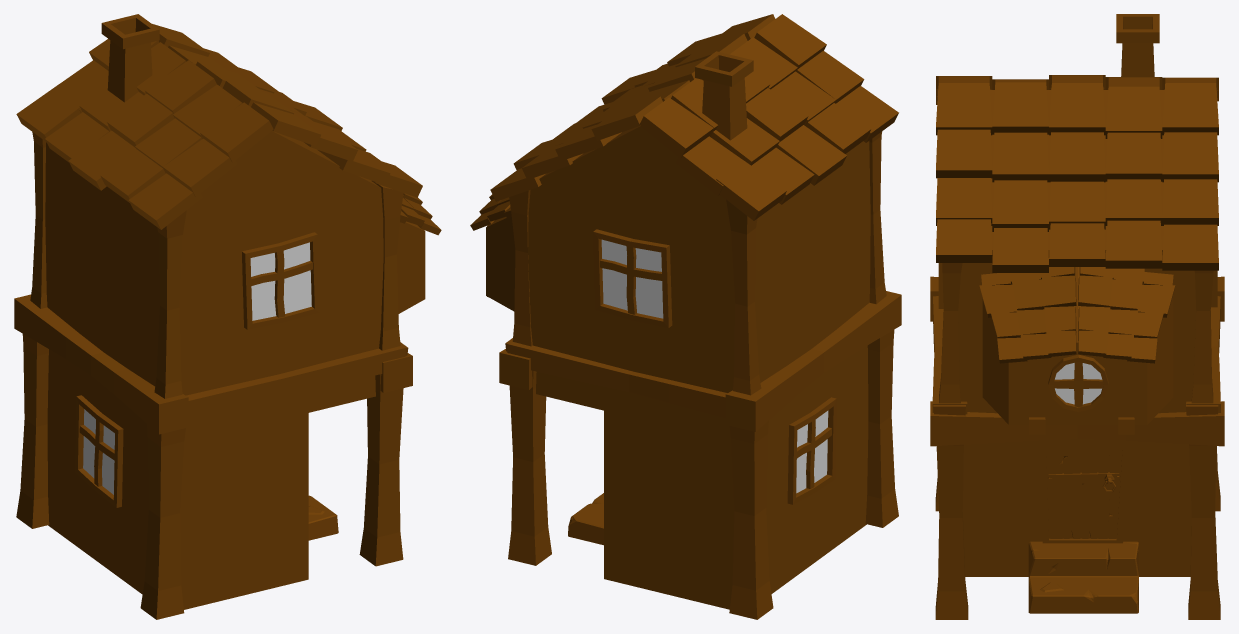
The model's file is дом6 .fbx.
3 views of the same model, side by side, from view 1: azimuth 30°, elevation 25°; view 2: azimuth 150°, elevation 25°; view 3: azimuth 270°, elevation 25° (orthographic).
Visible parts, largest first — view 1: Куб.013; view 2: Куб.013; view 3: Куб.013.
Part boxes in pixels (x1,y1,x2,y2): Куб.013: (14,14,441,619); Куб.013: (470,14,901,619); Куб.013: (930,14,1224,619).
Size of the model in its own units: 161 by 239 by 124.
